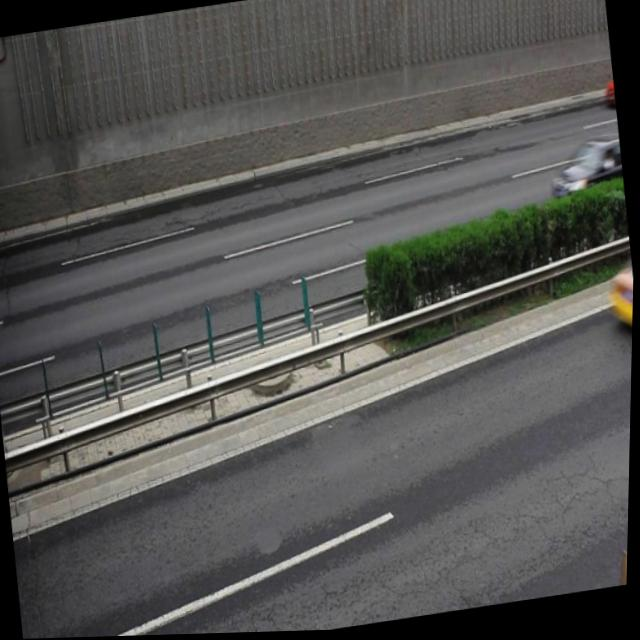car: (544, 138, 628, 226)
